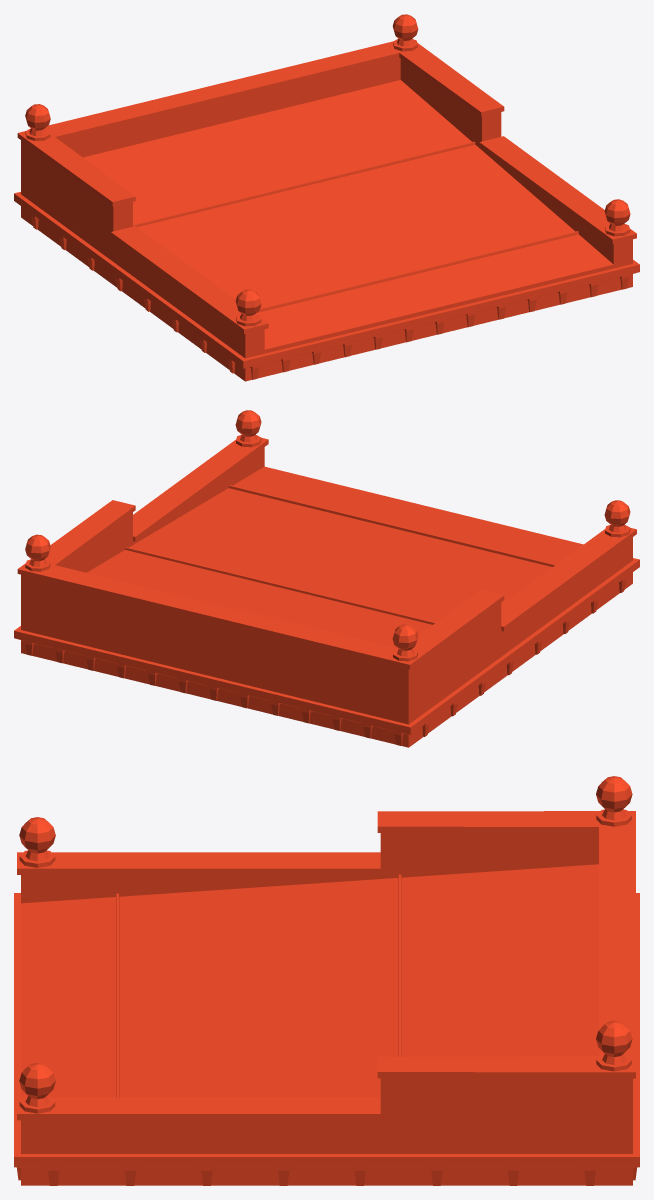
File: SM_Squarehouse_Roof_B_City.fbx
3 renders of one model, top to bottom at view 1: azimuth 30°, elevation 25°; view 2: azimuth 150°, elevation 25°; view 3: azimuth 270°, elevation 25°, orthographic. The views are drawn at different scales.
Parts seen in each view (by area): view 1: SM_Squarehouse_Roof_B_City; view 2: SM_Squarehouse_Roof_B_City; view 3: SM_Squarehouse_Roof_B_City.
Boxes of the visible parts, left/top/right/bottom form: SM_Squarehouse_Roof_B_City: left=14, top=14, right=639, bottom=381; SM_Squarehouse_Roof_B_City: left=14, top=410, right=639, bottom=747; SM_Squarehouse_Roof_B_City: left=14, top=776, right=639, bottom=1185.
Size of the model in its own units: 6.13 by 1.69 by 6.14.
